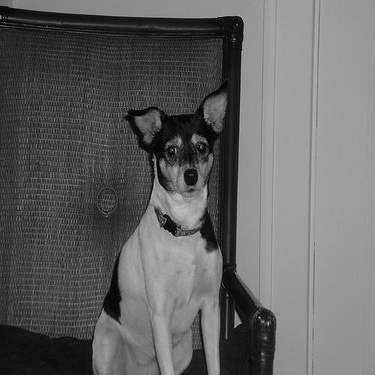dog: (83, 75, 242, 372)
